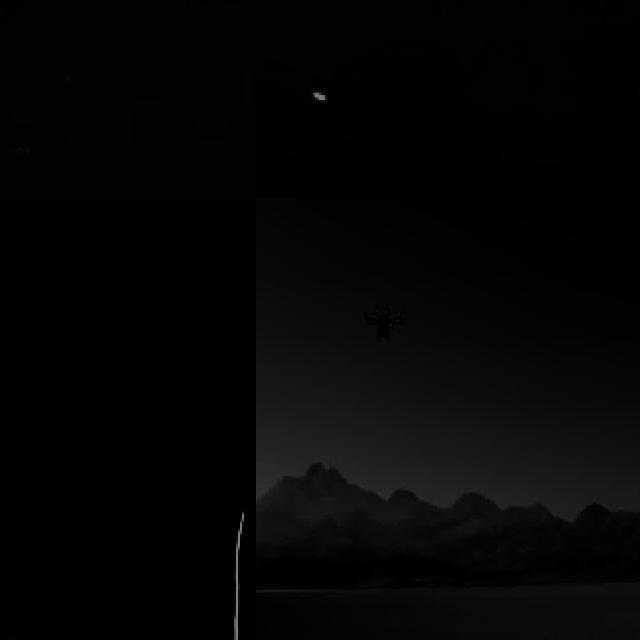0: (10, 139, 34, 166), (52, 70, 80, 92)
1: (300, 84, 336, 114)
drone: (359, 298, 403, 351)
